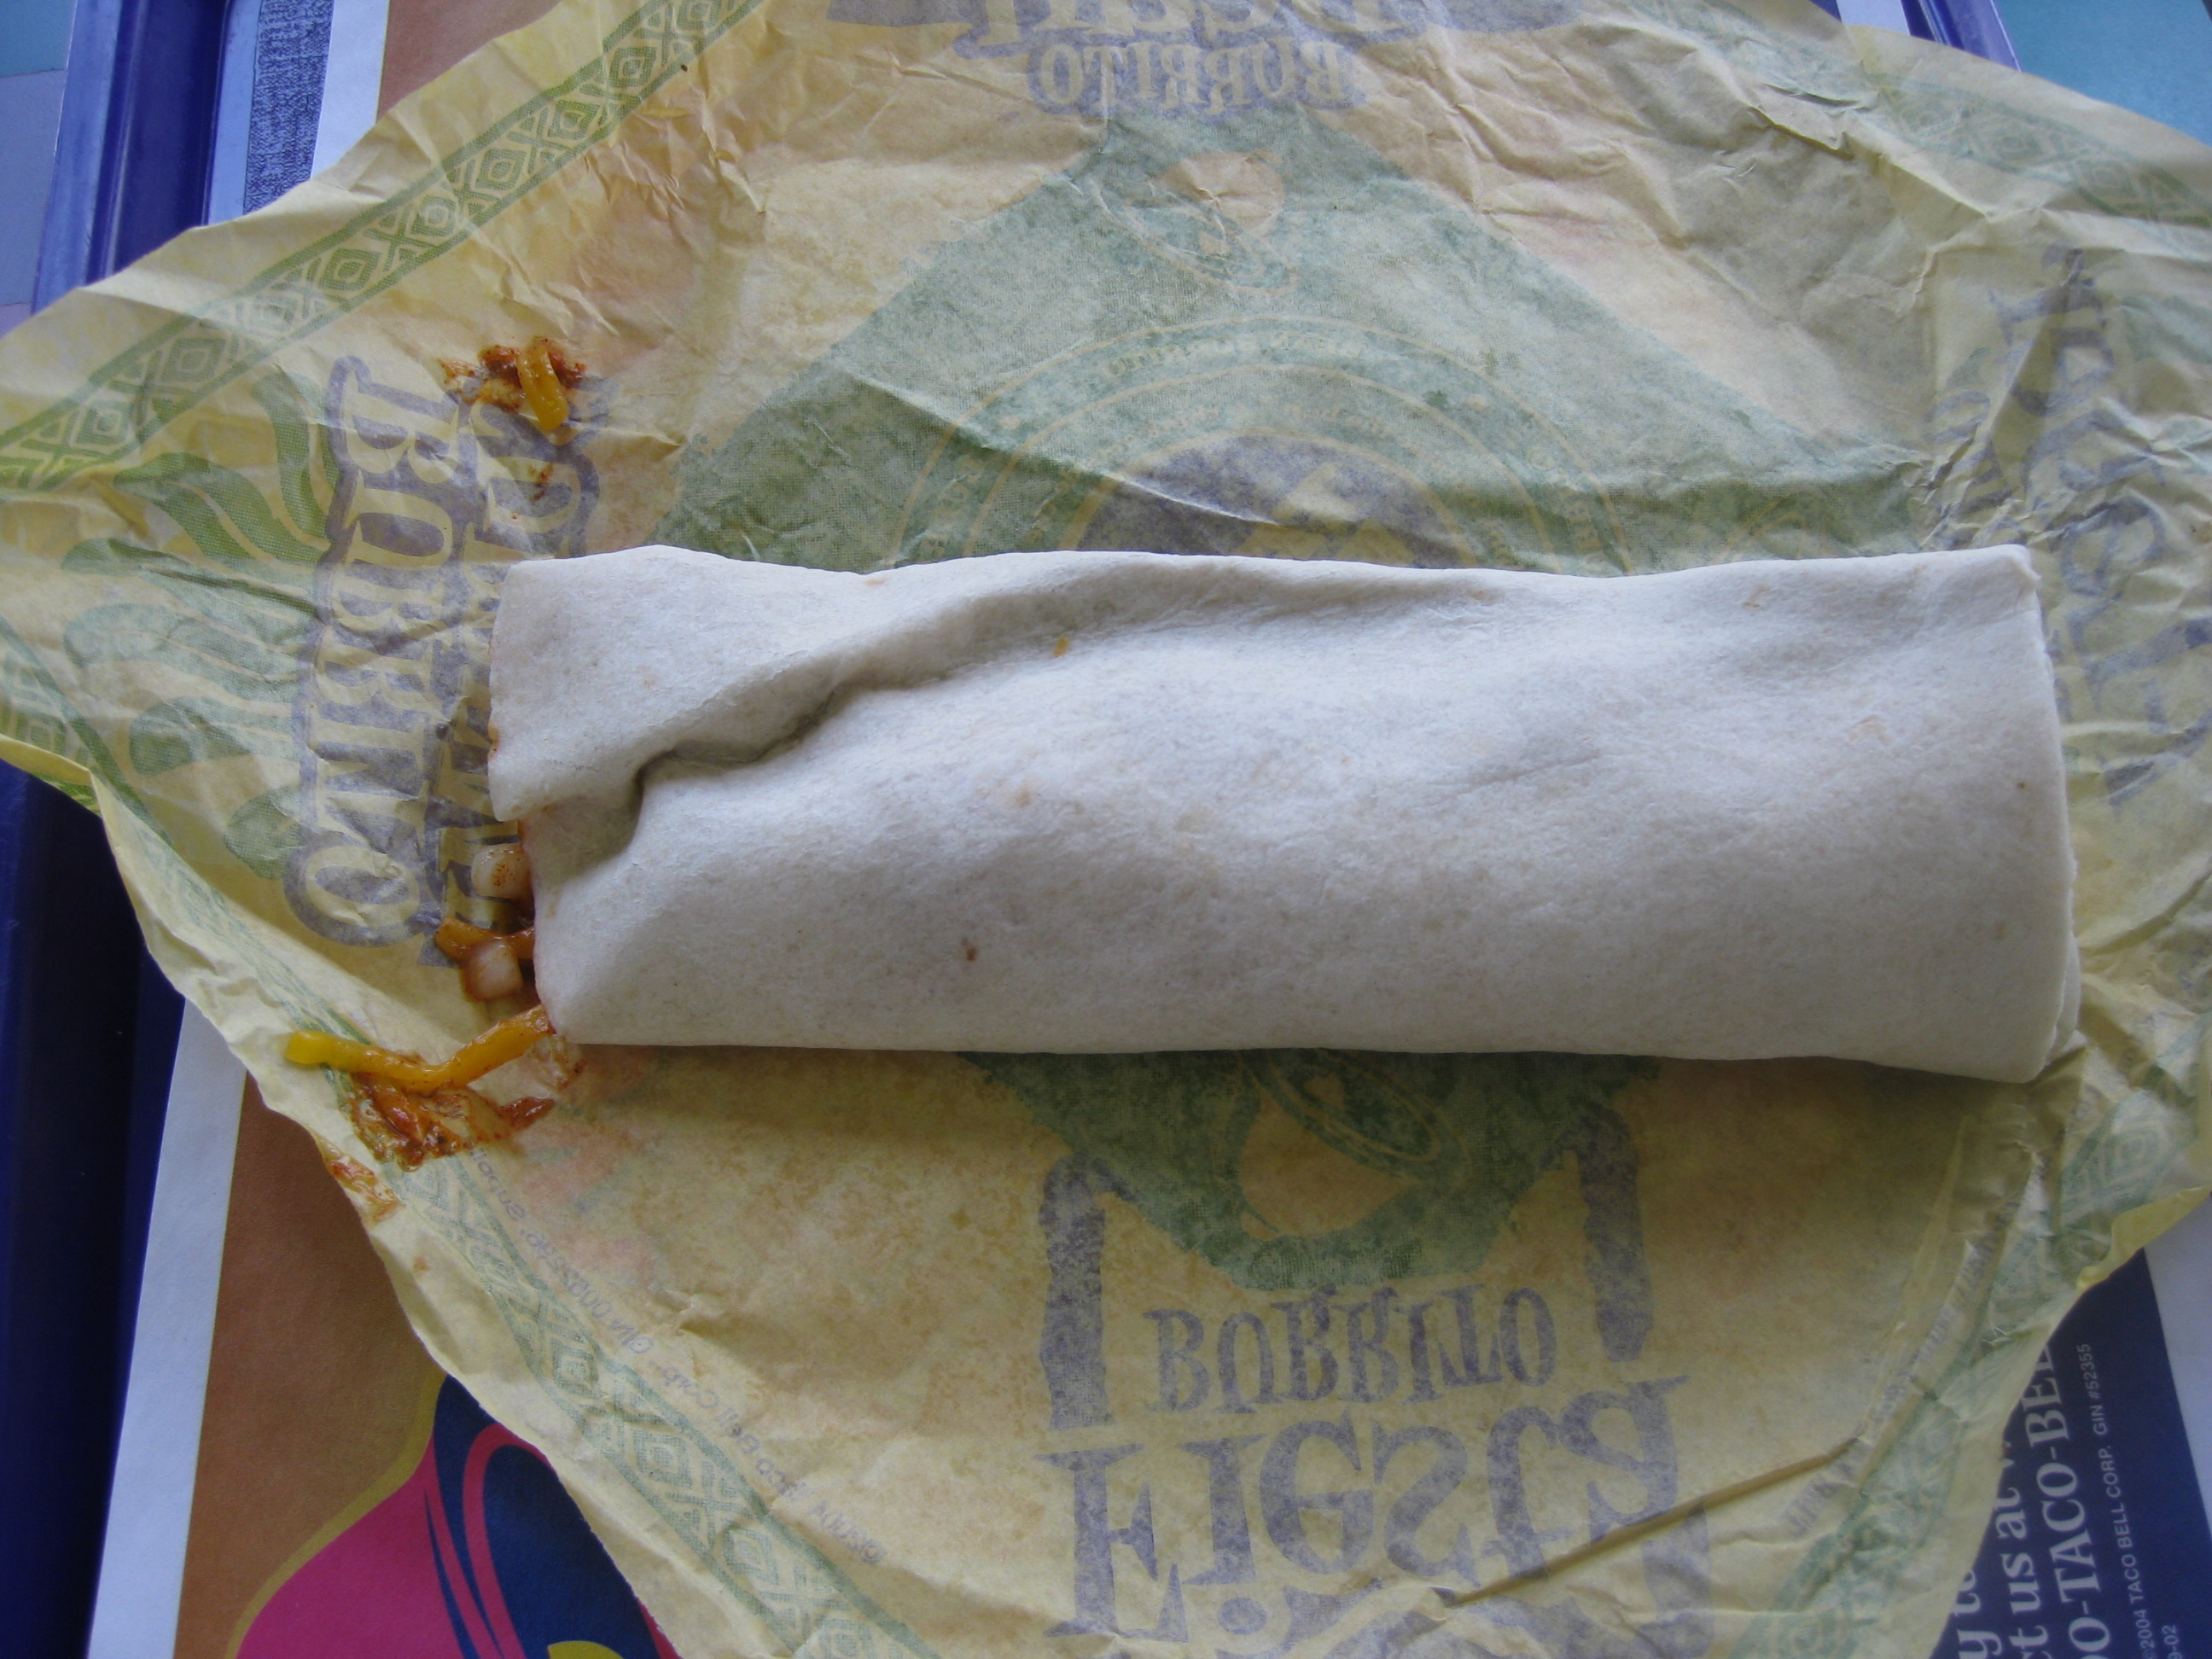burrito: (407, 464, 2122, 1168)
